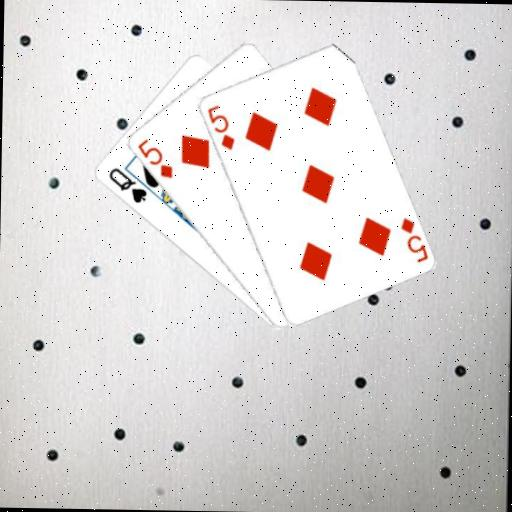5D: (133, 135, 175, 180), (397, 213, 431, 264), (203, 102, 236, 153)
QS: (105, 164, 149, 205)
